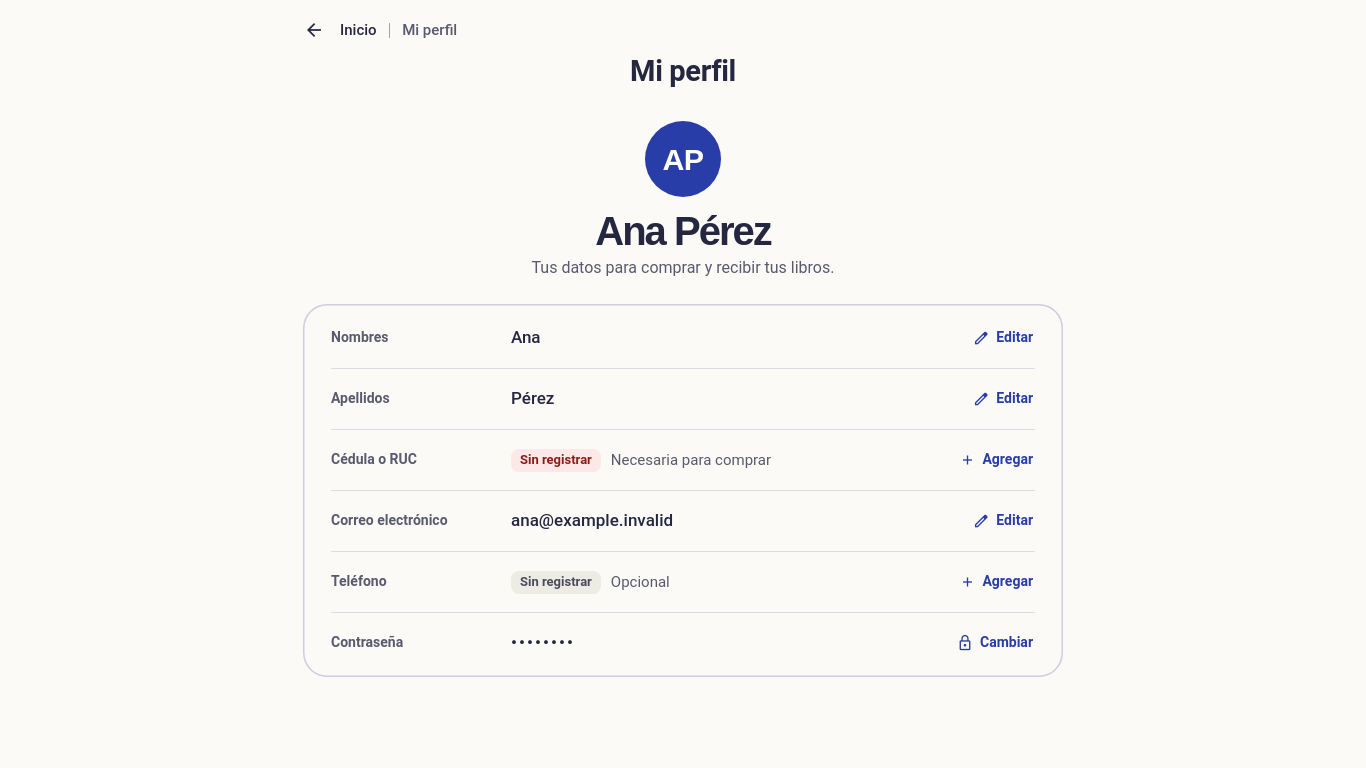
reconciles a lost reply (applied) by reading the cédula, never by replaying
Click the button named "Agregar cédula o RUC": (997, 460) [948,438,1045,482]
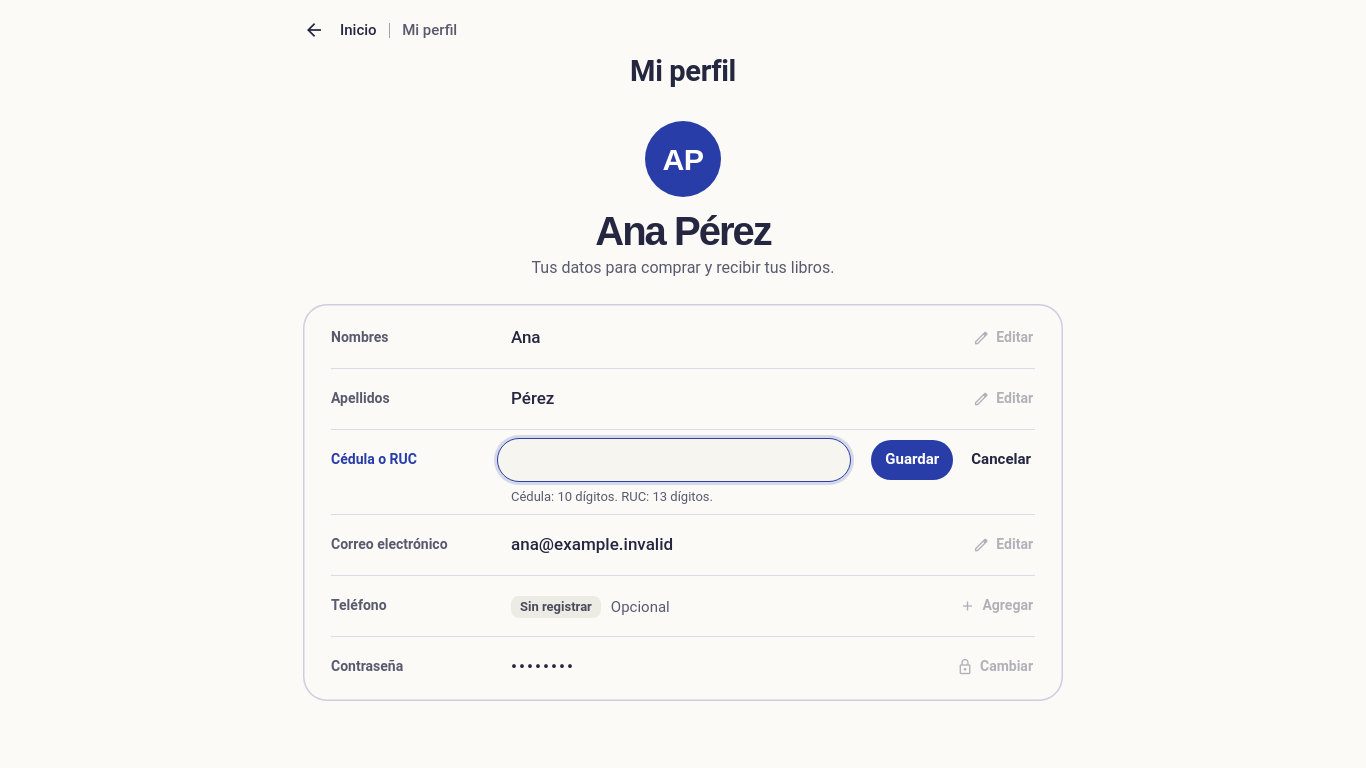
In the field labelled "Cédula o RUC": (674, 460) [497,438,851,482], type "1710034065"
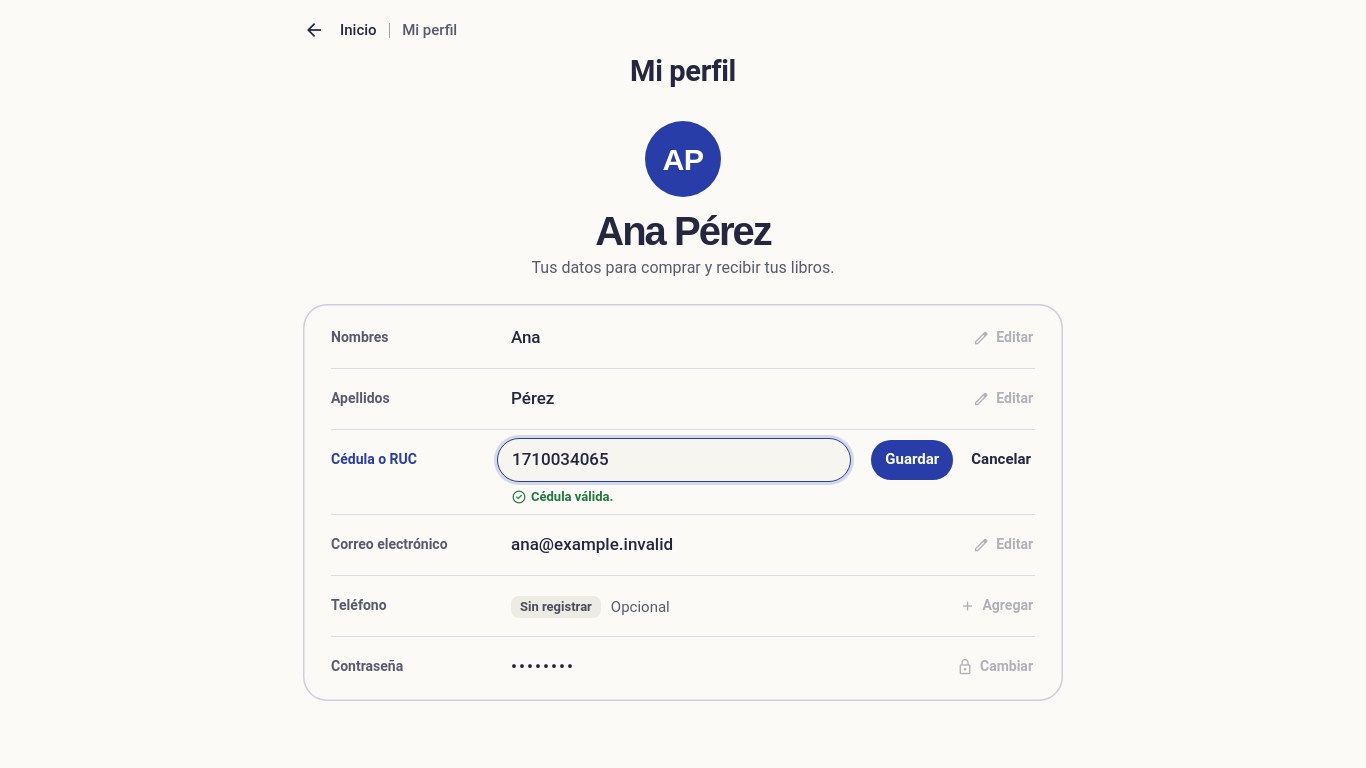
Click the button "Guardar": (912, 460) [871,440,953,480]
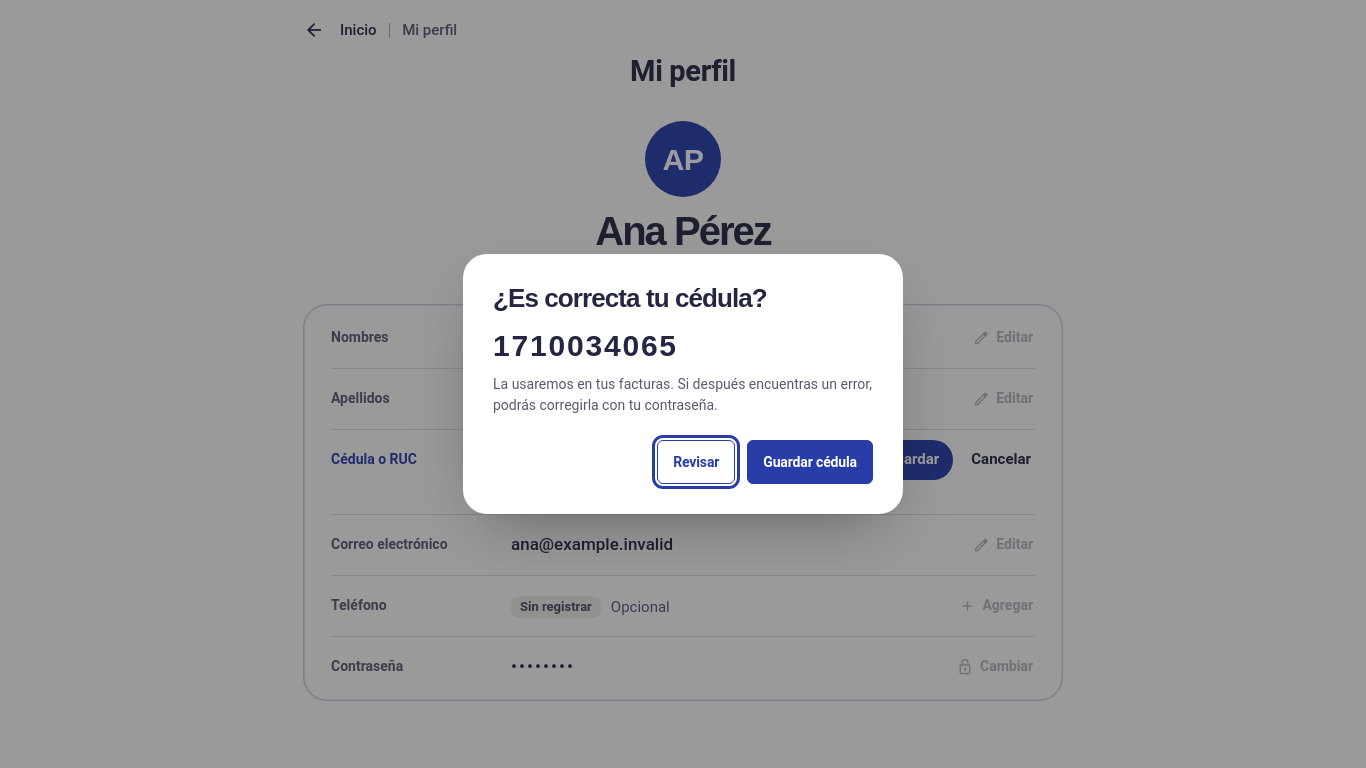
Click the button "Guardar cédula": (810, 462) [747,440,873,484]
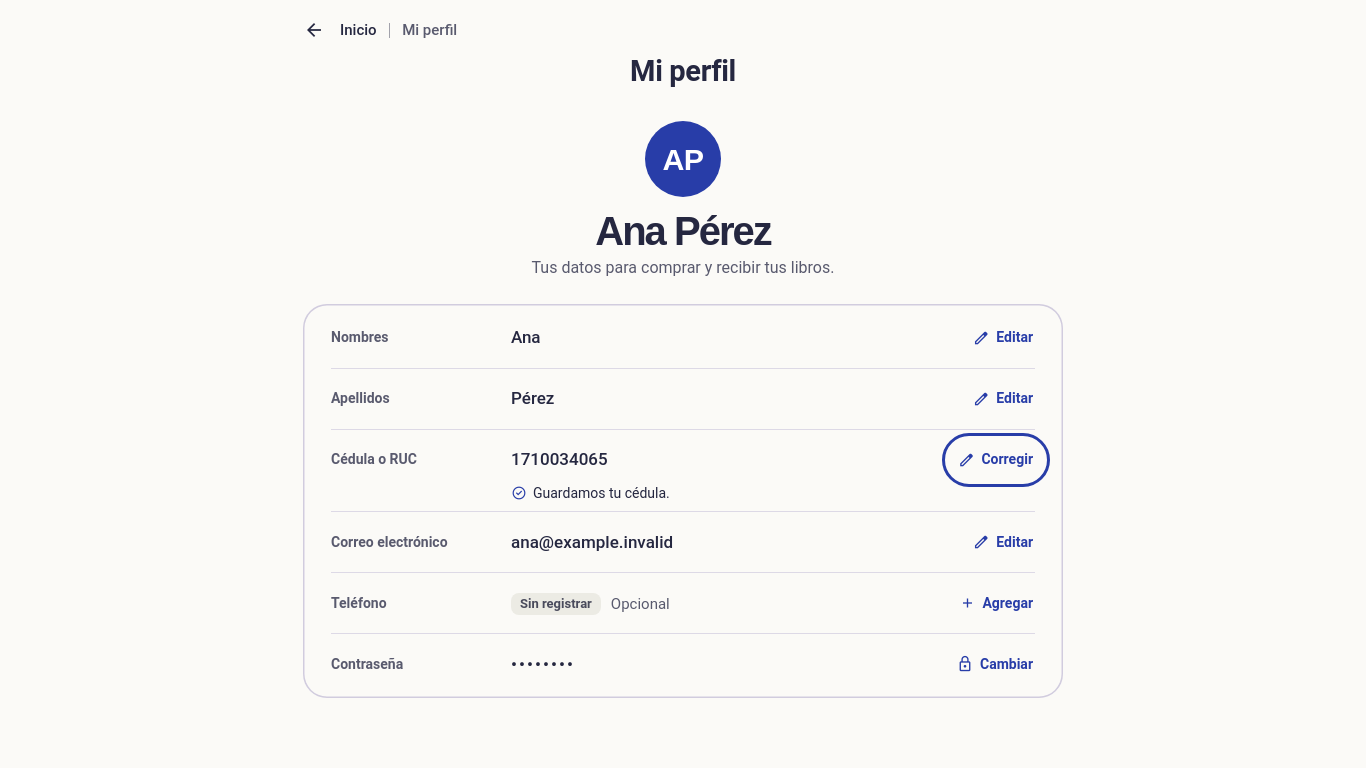
Expected: the text "Guardamos tu cédula." is shown, [511,483,670,503]
